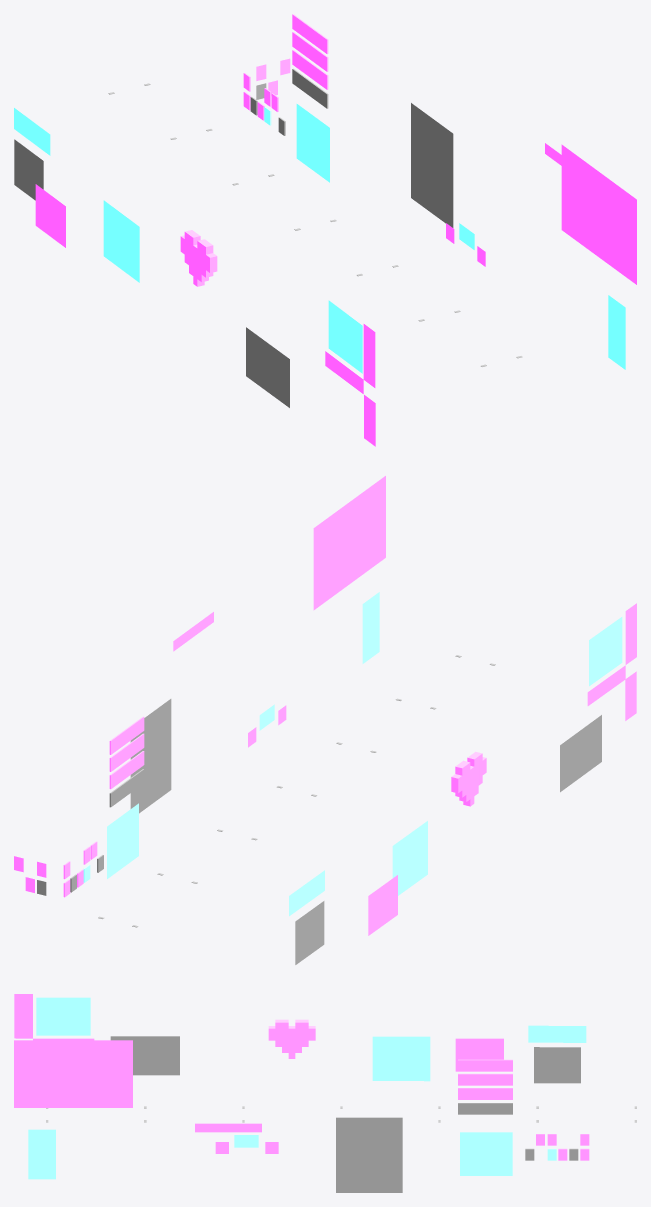
File: FR7Light.fbx
3 views of the same model, one above another, from view 1: azimuth 30°, elevation 25°; view 2: azimuth 150°, elevation 25°; view 3: azimuth 270°, elevation 25° (orthographic). The views are drawn at different scales.
Parts seen in each view (by area): view 1: Plane; view 2: Plane; view 3: Plane.
Boxes of the visible parts, x1,y1,x2,y2 form: Plane: (14, 14, 636, 446); Plane: (14, 476, 636, 964); Plane: (14, 994, 636, 1192).
Bounding box in the file's own units: 9732 × 5008 × 18630.
